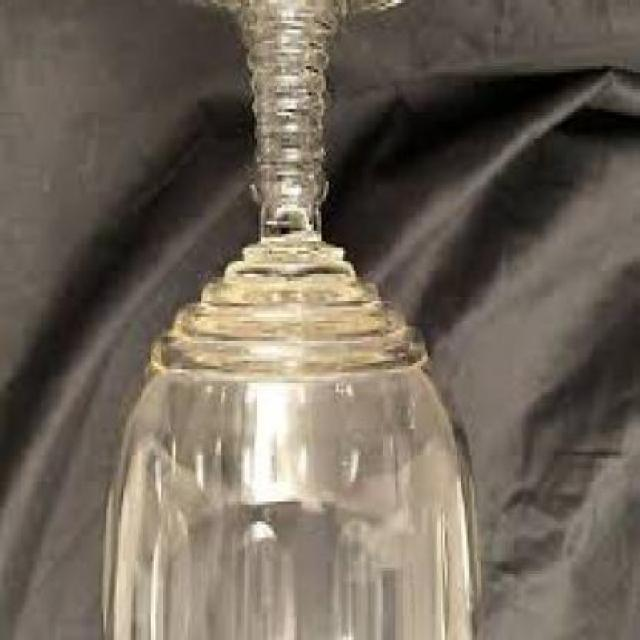glass: (92, 3, 476, 639)
